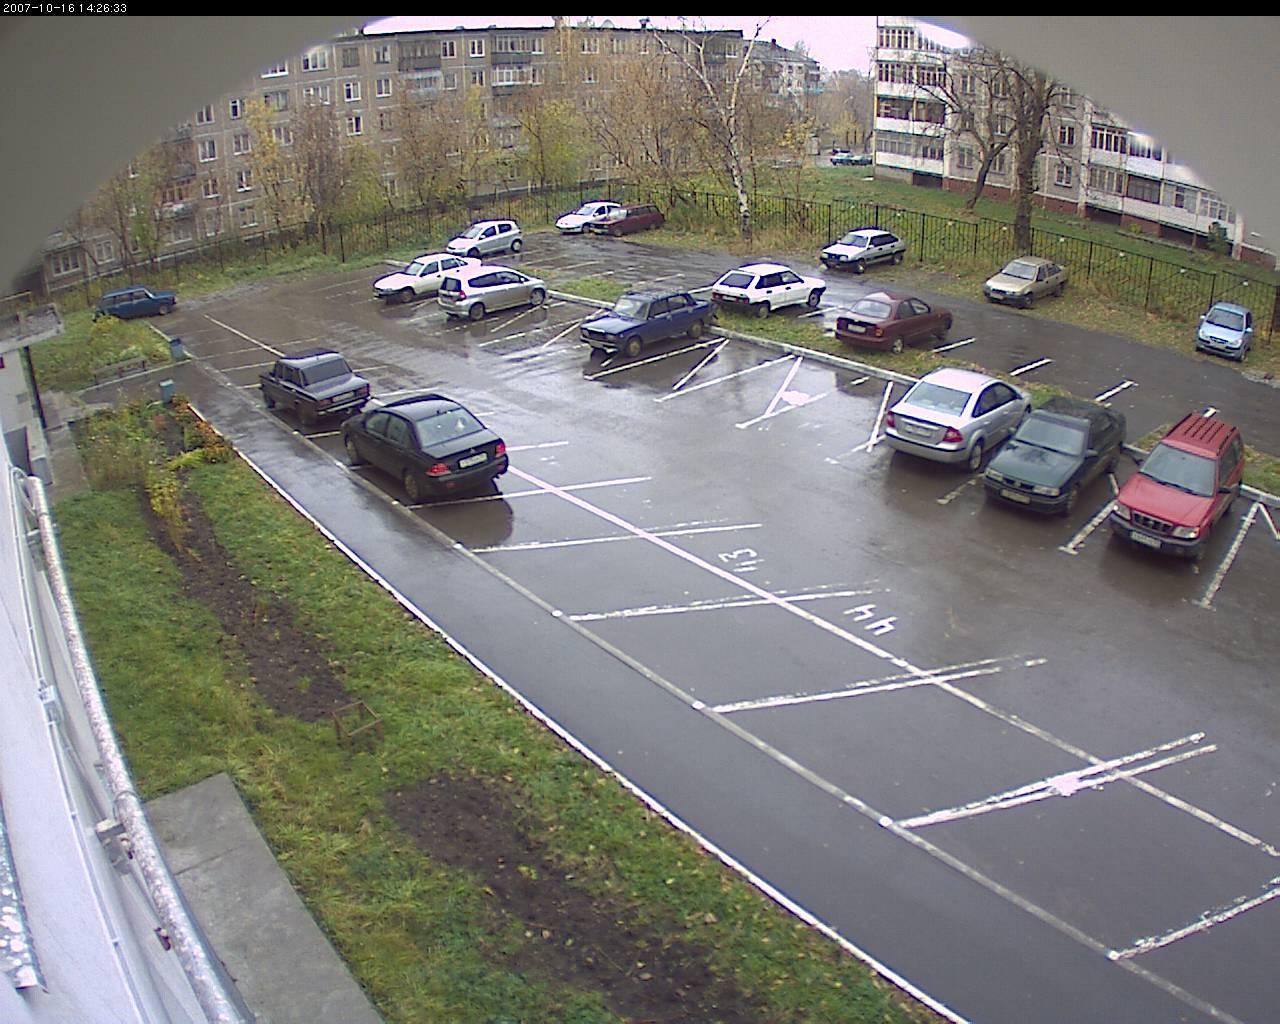empty: (347, 386, 519, 515), (1107, 409, 1242, 556), (877, 368, 1030, 471), (985, 406, 1120, 523), (569, 287, 718, 371), (252, 347, 376, 425), (827, 288, 956, 355), (703, 256, 833, 310), (435, 267, 544, 324), (971, 251, 1069, 308), (810, 225, 910, 280), (358, 253, 453, 307), (551, 194, 660, 238), (437, 212, 528, 262), (1190, 298, 1260, 362), (97, 281, 180, 326)
occupied: (1058, 817, 1177, 911), (862, 712, 977, 796), (541, 534, 650, 611), (679, 621, 792, 691), (487, 483, 563, 550), (732, 360, 800, 420), (819, 387, 890, 434), (1119, 385, 1186, 433), (961, 328, 1026, 370), (1038, 364, 1109, 400), (519, 306, 579, 347)
